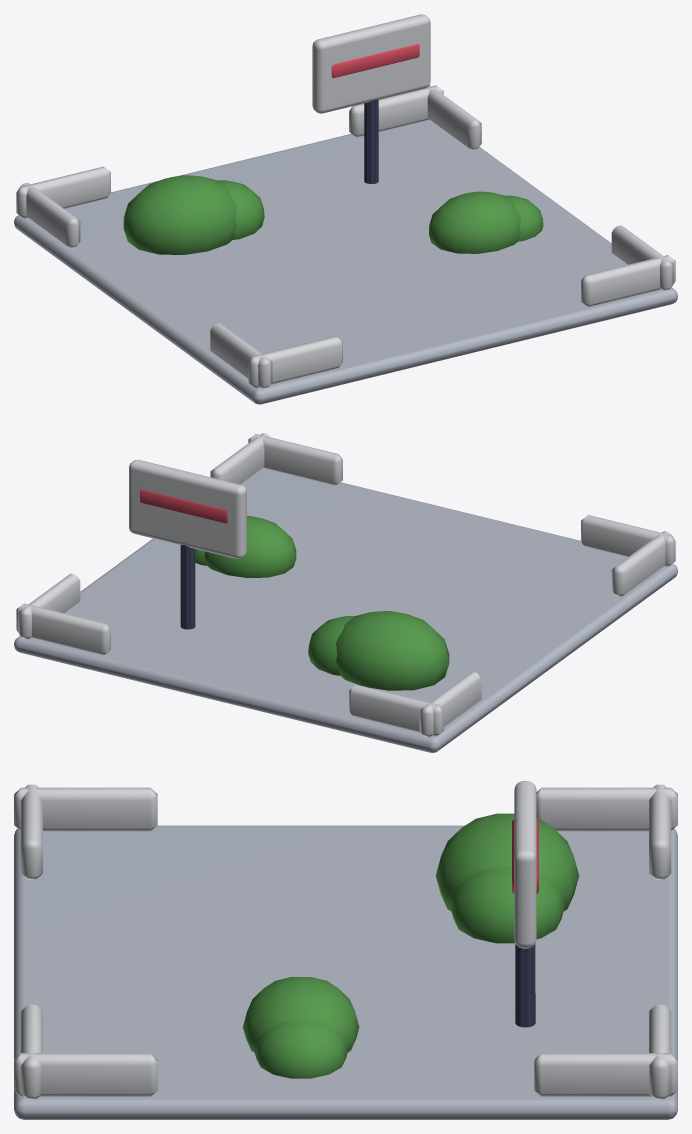
The model's file is lot.glb.
The picture shows the model from 3 angles, top to bottom: view 1: azimuth 30°, elevation 25°; view 2: azimuth 150°, elevation 25°; view 3: azimuth 270°, elevation 25°; orthographic projection. The views are drawn at different scales.
Parts seen in each view (by area): view 1: Cube; view 2: Cube; view 3: Cube.
Part boxes in pixels (x1,y1,x2,y2): Cube: (14,14,677,404); Cube: (14,433,677,752); Cube: (14,781,677,1119).
Bounding box in the file's own units: 0.74 × 0.296 × 0.74.
